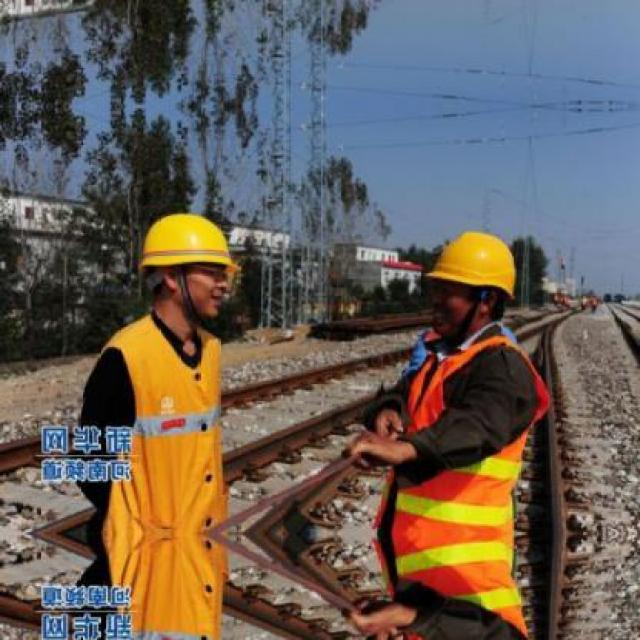reflective_jacket: (370, 325, 560, 545), (88, 313, 237, 536)
safety_helmet: (412, 225, 530, 308), (129, 203, 250, 283)
